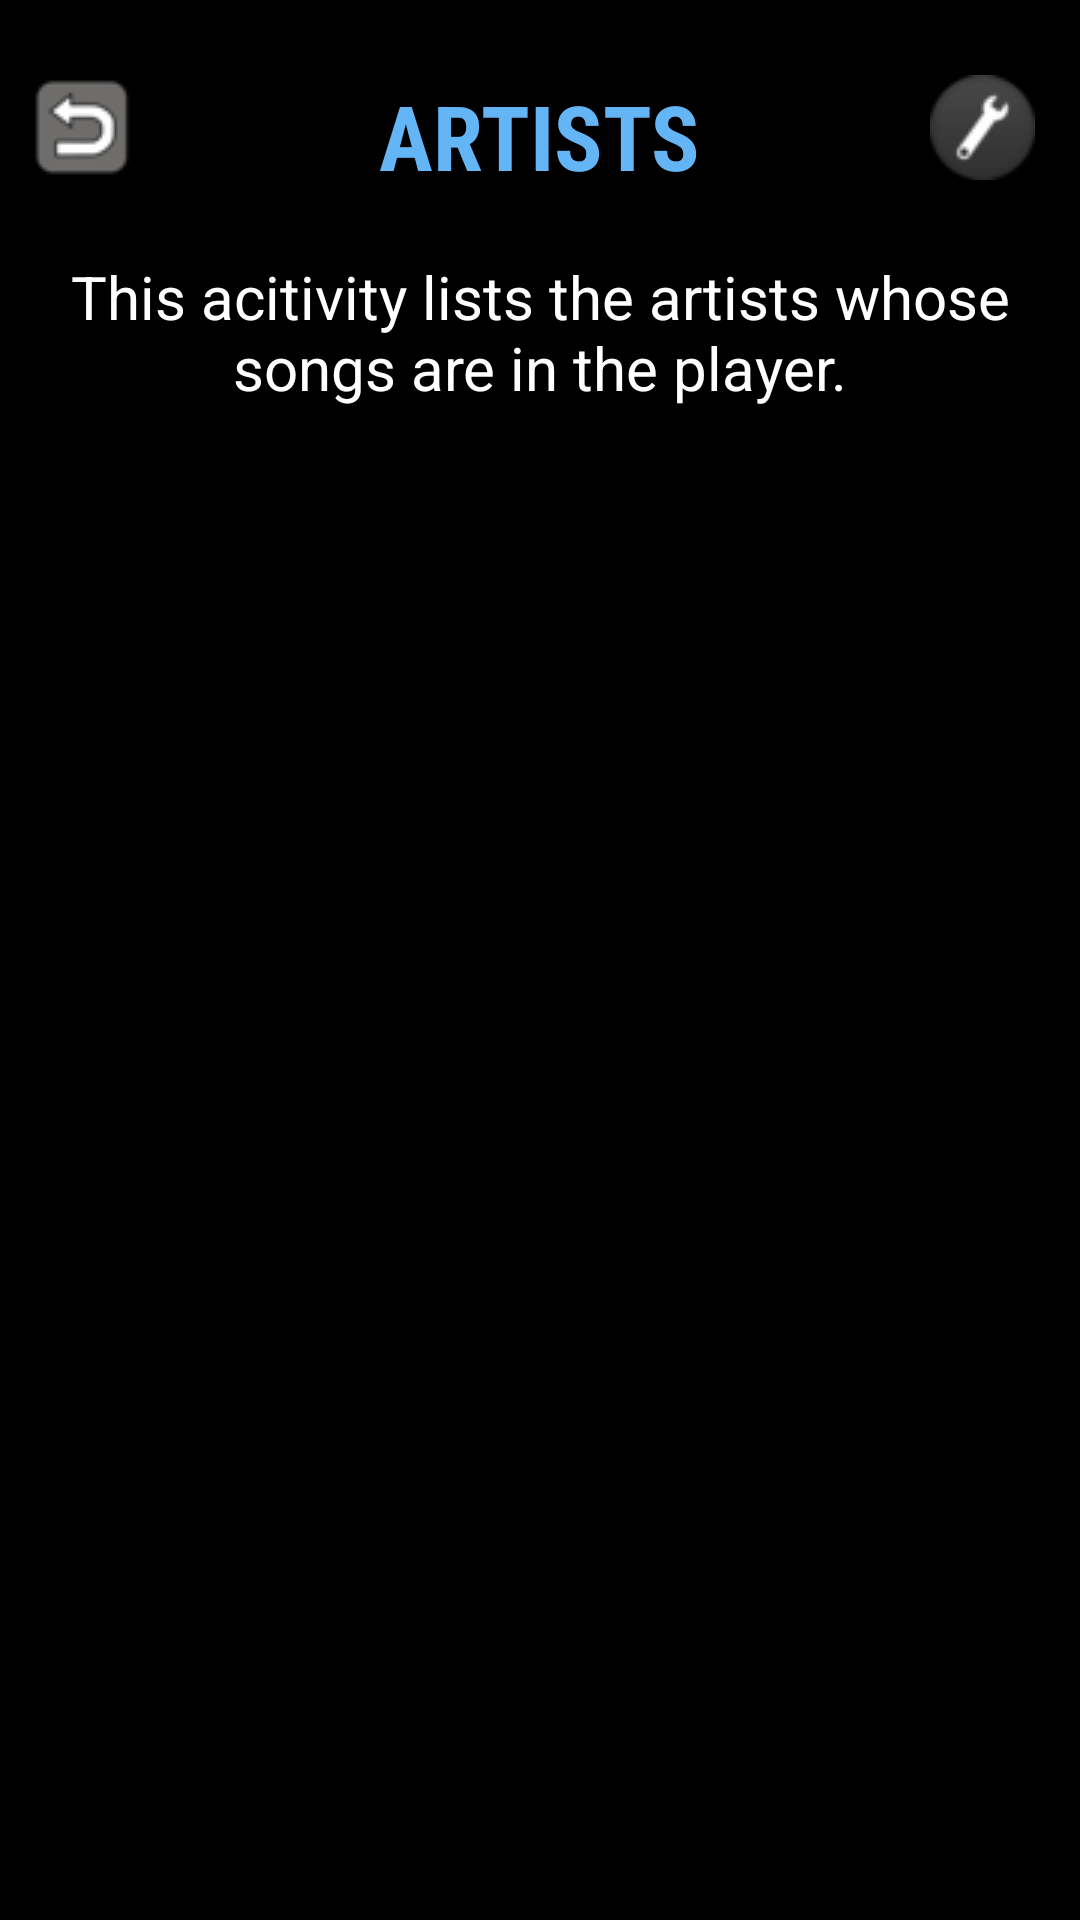

Named icons in this screenshot (1080px x 1920px) and their centers, [x,y]:
Back Button: [81,127]
Settings: [982,127]
